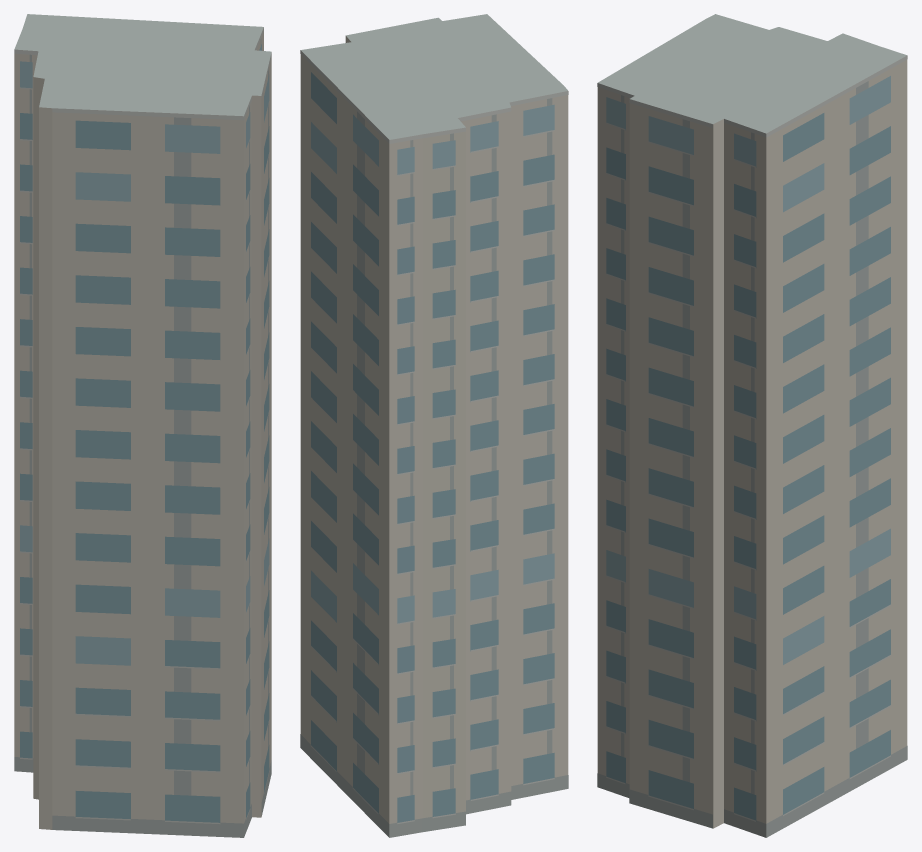
Rendered from residential-fd6387c0-8a8d-4639-ae95-e6d61b80d0c3.glb.
3 renders of one model, left to right at view 1: azimuth 30°, elevation 25°; view 2: azimuth 150°, elevation 25°; view 3: azimuth 270°, elevation 25°, orthographic. The views are drawn at different scales.
Parts seen in each view (by area): view 1: residential-fd6387c0-8a8d-4639-ae95-e6d61b80d0c3.tmp; view 2: residential-fd6387c0-8a8d-4639-ae95-e6d61b80d0c3.tmp; view 3: residential-fd6387c0-8a8d-4639-ae95-e6d61b80d0c3.tmp.
Part boxes in pixels (<box>): residential-fd6387c0-8a8d-4639-ae95-e6d61b80d0c3.tmp: <box>14,14,271,837</box>; residential-fd6387c0-8a8d-4639-ae95-e6d61b80d0c3.tmp: <box>300,14,568,837</box>; residential-fd6387c0-8a8d-4639-ae95-e6d61b80d0c3.tmp: <box>597,14,907,837</box>.
Bounding box in the file's own units: 15.55 × 42.7 × 17.04.
